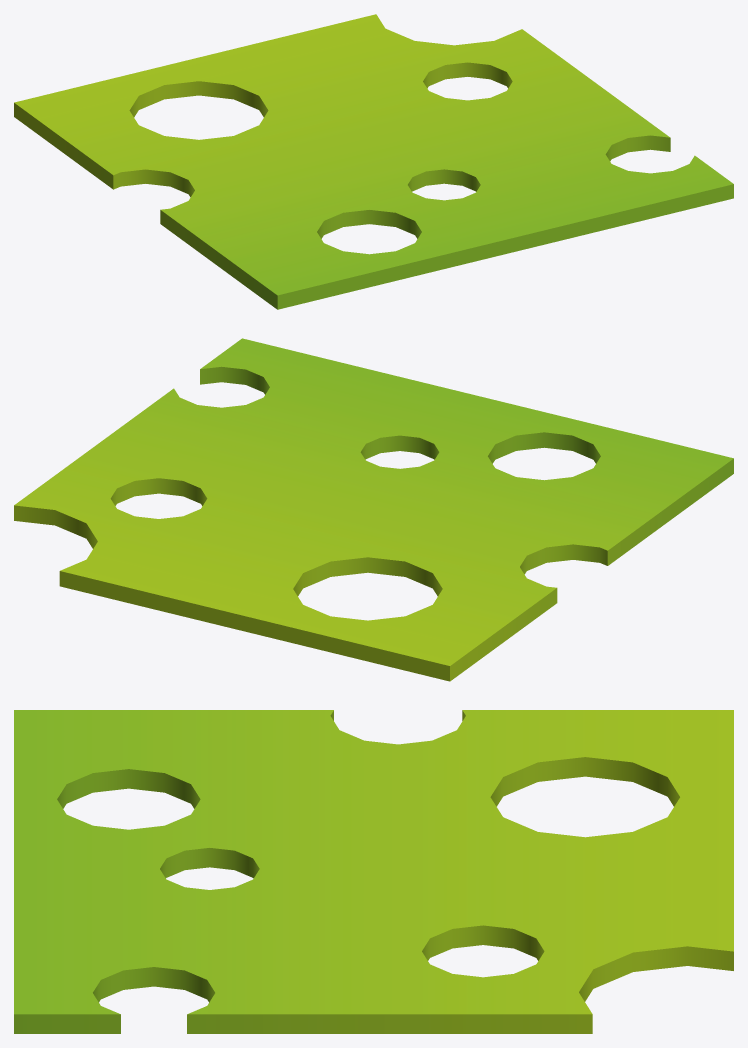
File: Сheese.002.fbx
3 renders of one model, top to bottom at view 1: azimuth 30°, elevation 25°; view 2: azimuth 150°, elevation 25°; view 3: azimuth 270°, elevation 25°, orthographic. The views are drawn at different scales.
Parts seen in each view (by area): view 1: Сheese.002; view 2: Сheese.002; view 3: Сheese.002.
Boxes of the visible parts, x1,y1,x2,y2 form: Сheese.002: [14, 14, 733, 309]; Сheese.002: [14, 338, 733, 681]; Сheese.002: [14, 710, 733, 1033].
Bounding box in the file's own units: 82.96 × 82.96 × 2.49.
